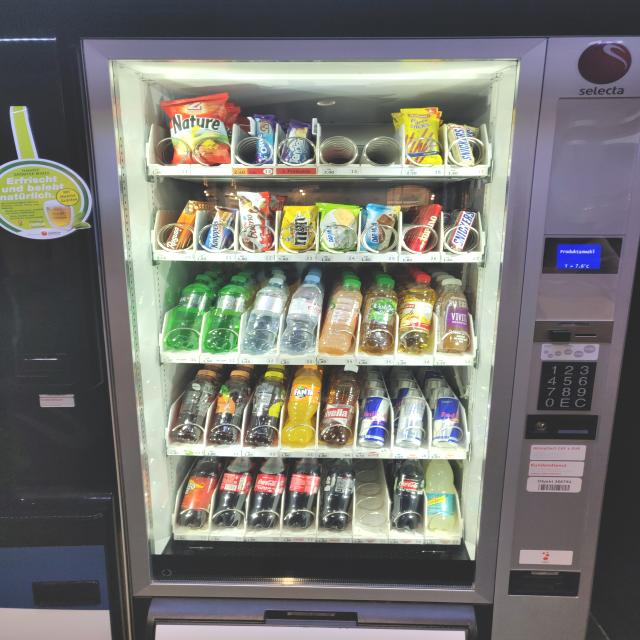bueno___43__4008400320328: (231, 190, 271, 254)
coke__flasche_50__54491472: (246, 457, 286, 531), (211, 456, 248, 528), (284, 458, 320, 530)
coke_zero_flasche_50__5449000131836: (387, 460, 427, 529), (317, 458, 352, 527)
darwida_chocaulait____: (358, 204, 400, 253)
darwida_sandwich____7610032065170: (318, 202, 358, 254)
evian___50__3068320353500: (282, 276, 322, 352)
fanta___50__40822938: (286, 366, 321, 447)
fuse_lemon__50__5449000235947: (243, 370, 286, 449)
fuse_peach__50__5449000236623: (166, 369, 218, 442), (208, 370, 249, 445)
knoppers_riegel____4035800488808: (196, 205, 236, 252)
malburner_partysticks__40__7610200279682: (399, 108, 440, 165)
mezzomix___50__54490840: (174, 455, 216, 529)
milka_oreo_riegel_37_1_7622210704740: (248, 115, 277, 164)
milka_tender____: (280, 118, 314, 164)
mnms_gelb__45__40111445: (277, 203, 317, 253)
ragusa___50__76401121: (161, 202, 197, 249)
ramseier_schorle__50__7610057012456: (396, 276, 437, 353)
redbull___33__90162909: (429, 396, 465, 448), (393, 394, 425, 448), (356, 396, 390, 446)
rivella_rot__50__7610097111072: (322, 365, 358, 446)
schweppes_bitterlemon__50__: (428, 460, 462, 529)
snickers___50__5000159461122: (444, 208, 477, 254)
snickers_weis__50__5000159461122: (449, 125, 482, 165)
torino___46__76415272: (404, 206, 444, 254)
valser_classic__50__76404160: (200, 275, 248, 354), (163, 275, 211, 351)
valser_still__50__7610335002575: (240, 274, 286, 352)
vivitz_classiczitrone__50__: (432, 276, 476, 353)
volvic_pink__50__: (325, 274, 363, 354)
volvic_teeminze__50__3057640335648: (359, 277, 398, 351)
zweifel_salz__90__7610095005007: (161, 92, 231, 166)
